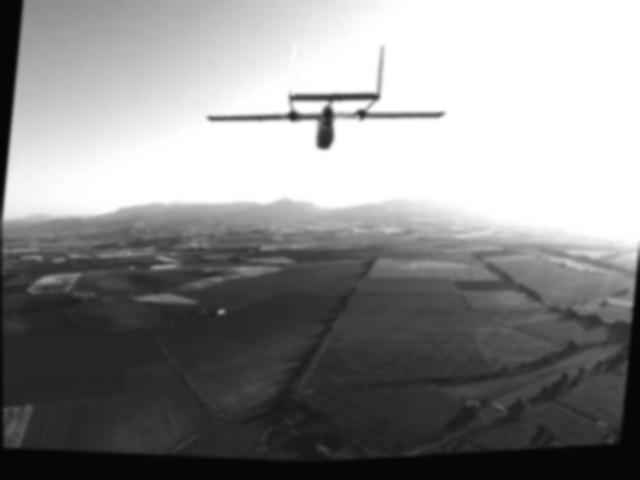hedef: (183, 19, 465, 222)
